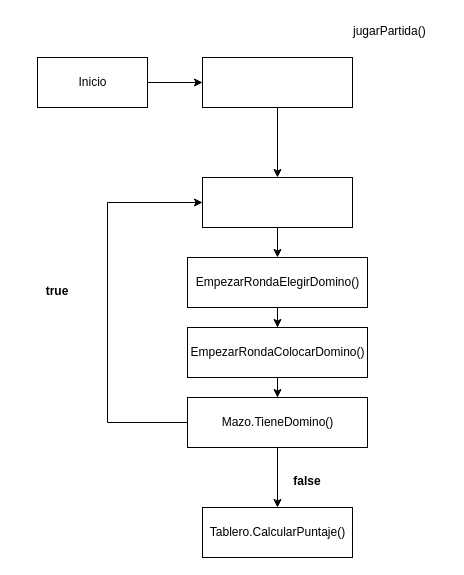
Some shapes in this 464 by 575 pixel diagram are drawn without their labels. The shapes that lost their labels are listed below. From the top down, each one's centre as x and y in pixels, then its label:
At (x=277, y=82): "OrdenarReyesRandom()".
At (x=277, y=202): "Mazo.BarajarDomino()".
